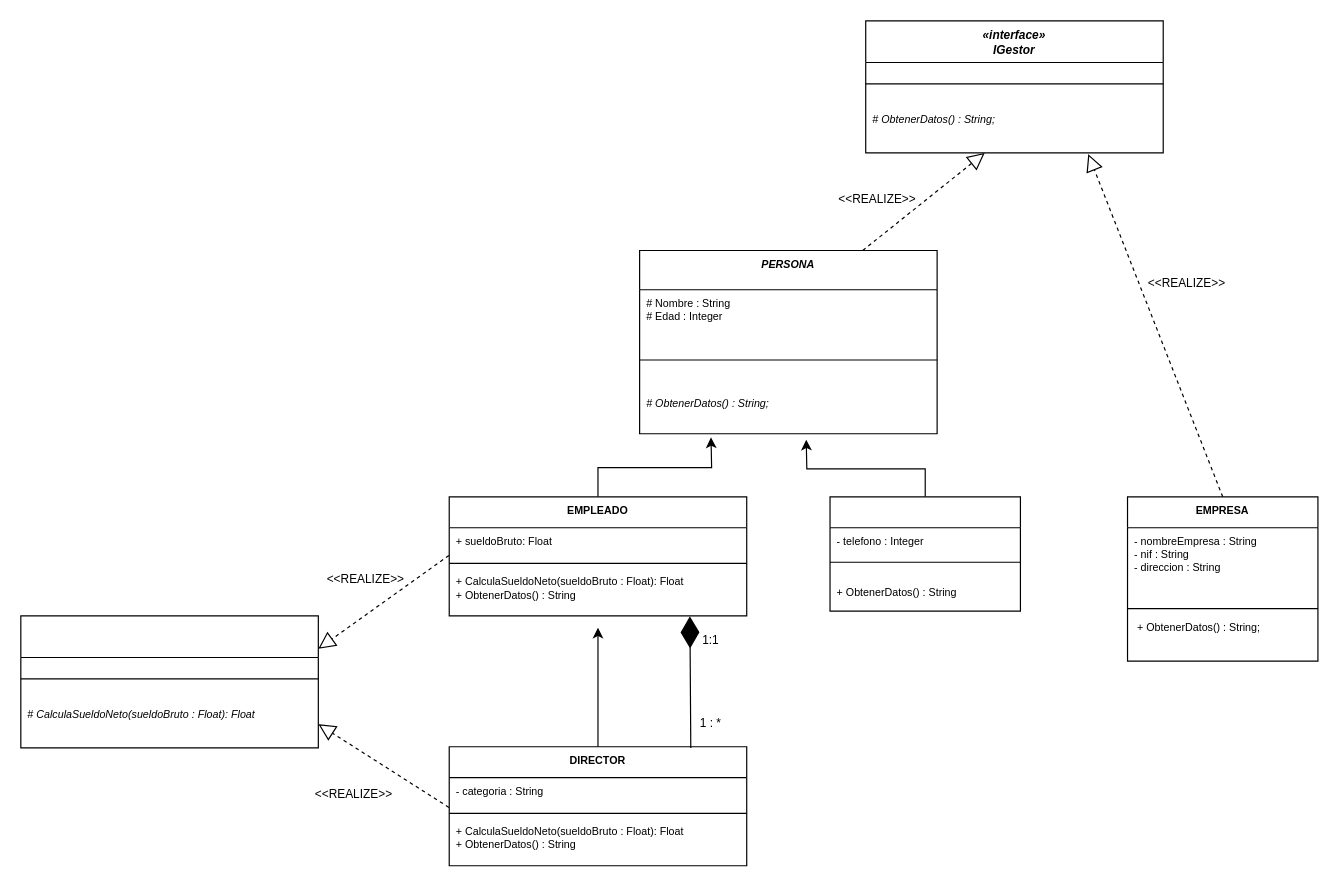
Some shapes in this 1339 by 890 pixel diagram are drawn without their labels. Each missing label, with the box of its shape:
CLIENTE: (829, 496, 1020, 611)
«interface» ICalculadorSueldos: (20, 615, 318, 748)
